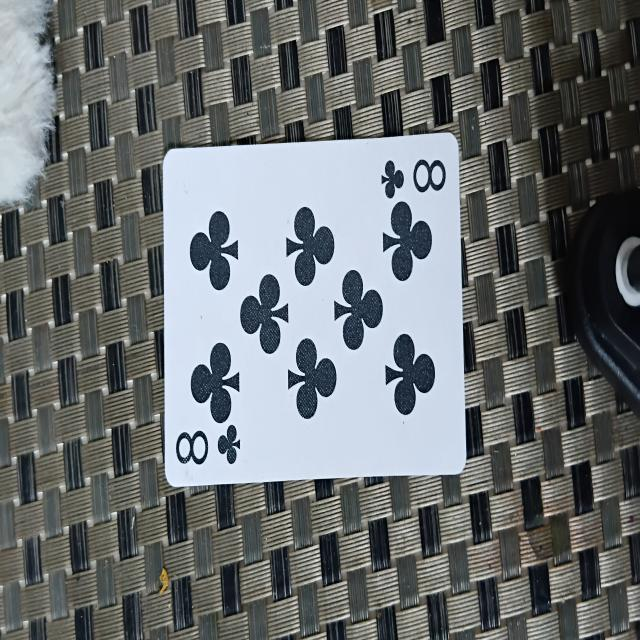8C: (161, 132, 467, 477)
